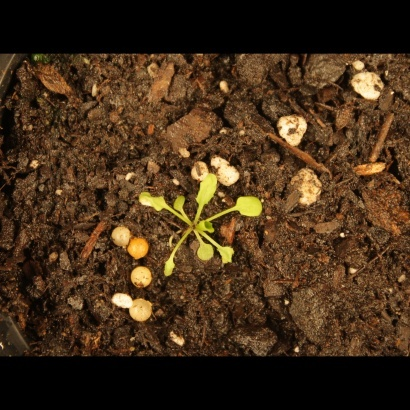leaf: (232, 194, 266, 221), (196, 171, 221, 207), (138, 188, 168, 216), (159, 252, 182, 281), (195, 241, 218, 266), (171, 190, 194, 213), (216, 242, 239, 265), (194, 217, 217, 240)
